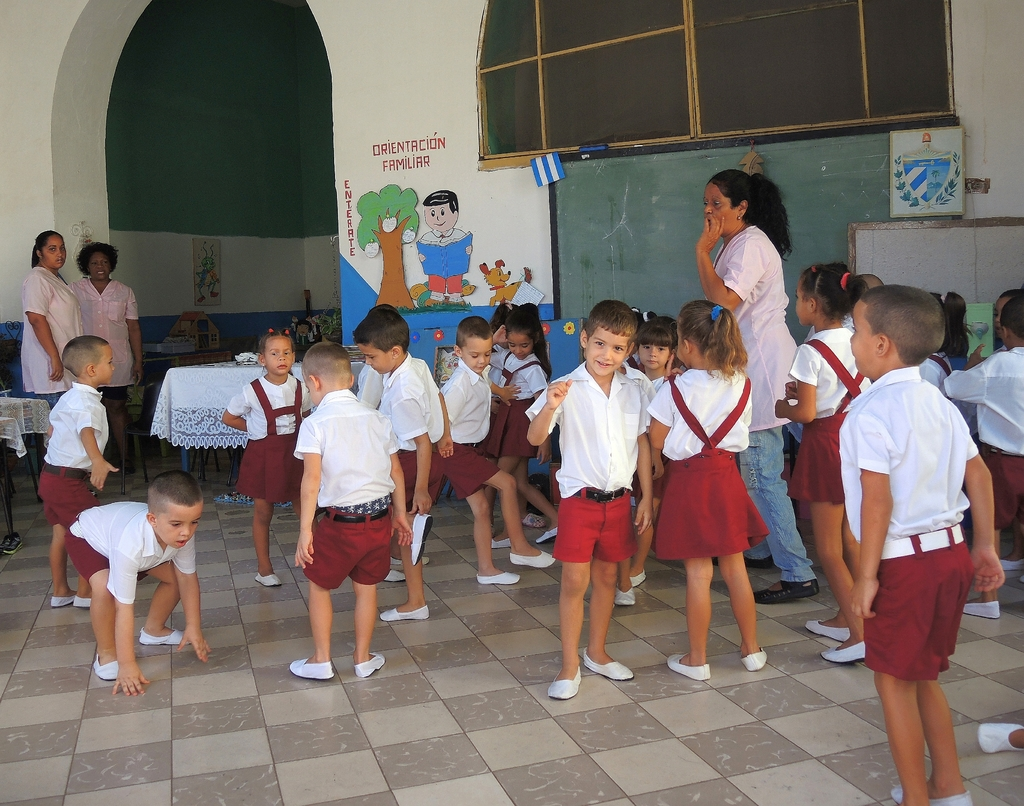Person: (216, 170, 1024, 806), (216, 321, 317, 583), (23, 231, 81, 439)
